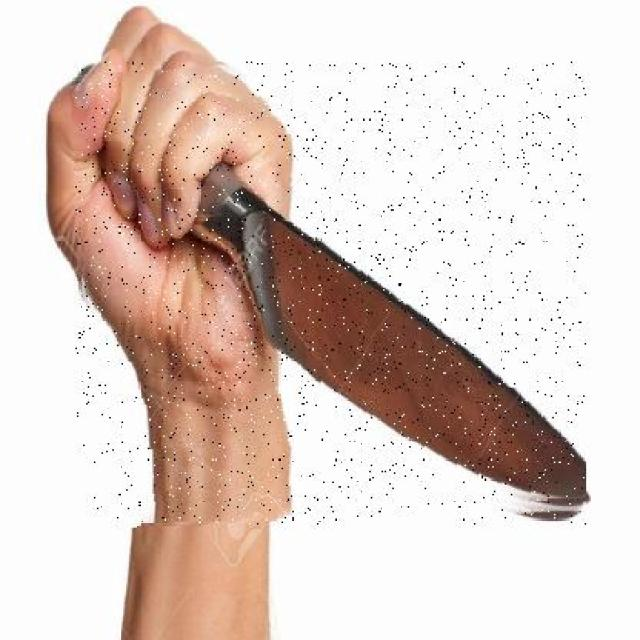knife: (76, 62, 586, 524)
